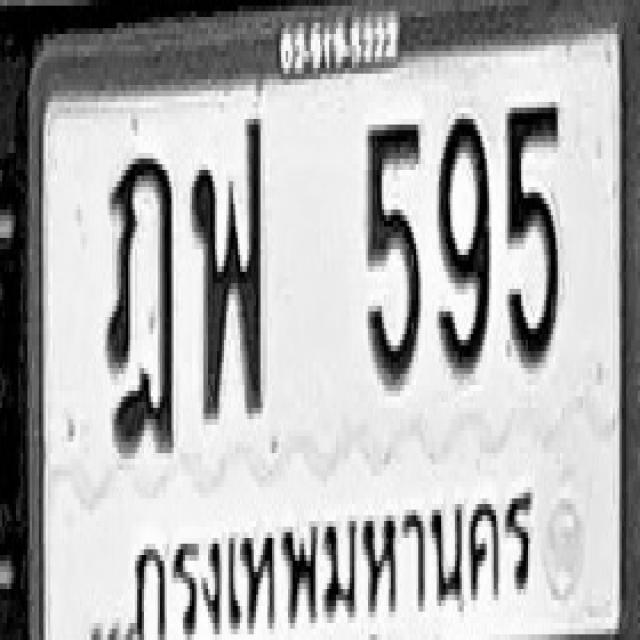23DorChaDa: (105, 153, 174, 453)
39PhorPan: (190, 116, 263, 416)
40ForFun: (190, 113, 263, 419)
5: (366, 119, 420, 385), (506, 99, 559, 365)
9: (437, 113, 489, 374)
Bangkok: (123, 470, 540, 640)
